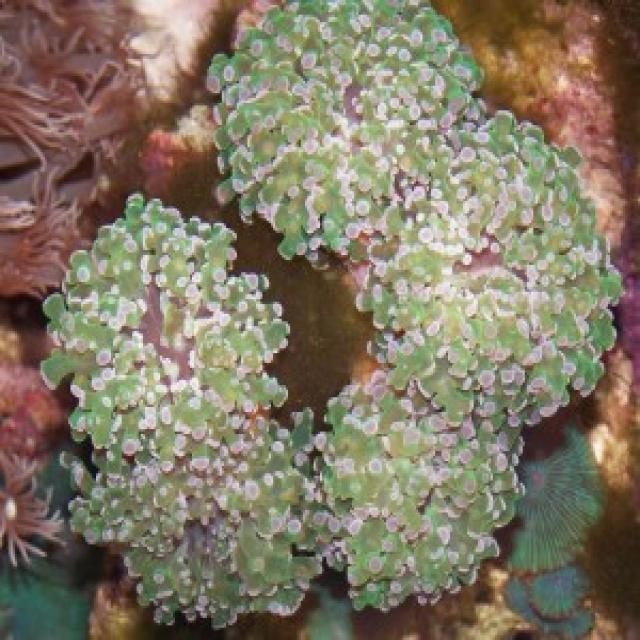Healthy: (44, 195, 325, 626), (351, 111, 618, 418), (221, 1, 477, 254), (325, 386, 515, 607)
